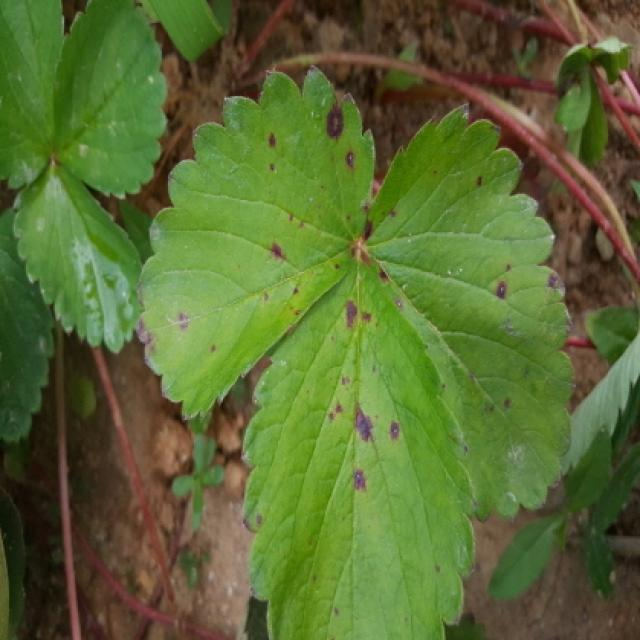Leaf Spot: (362, 99, 578, 525), (240, 254, 478, 638), (133, 64, 377, 421)
